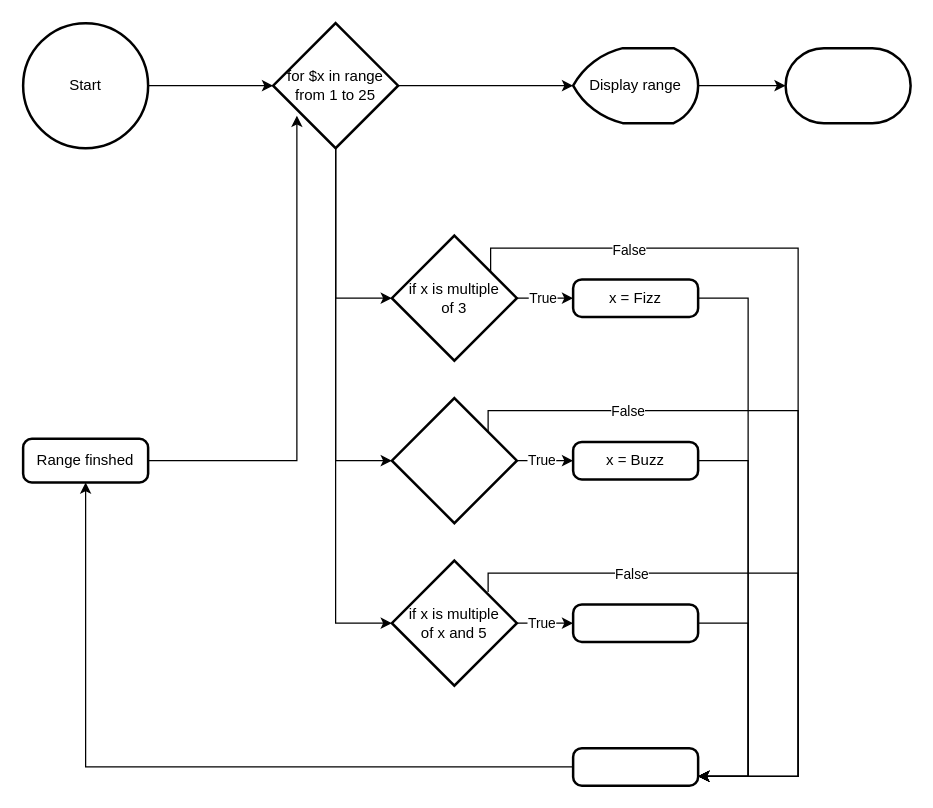
This 933x808 diagram has some shape labels left out. The centre of each missing label's shape, as x and y in pixels:
"End" belongs at point 847,85.
"if x is multiple of 5" belongs at point 454,460.
"x = FizzBuzz" belongs at point 635,622.
"x = x" belongs at point 635,766.
